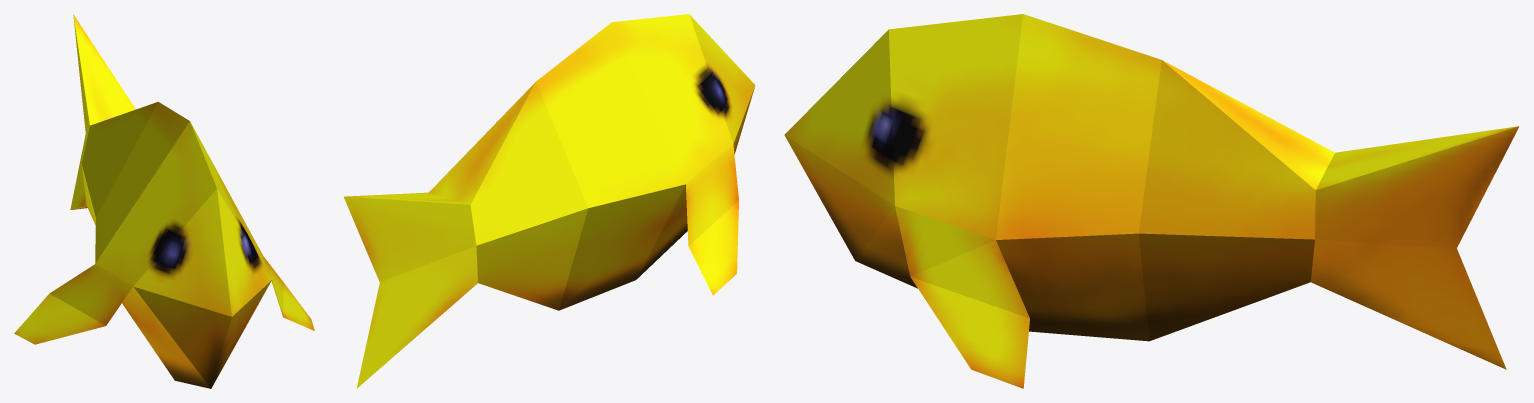
Rendered from fish2.FBX.
The picture shows the model from 3 angles, left to right: view 1: azimuth 30°, elevation 25°; view 2: azimuth 150°, elevation 25°; view 3: azimuth 270°, elevation 25°; orthographic projection. The views are drawn at different scales.
Visible parts, largest first — view 1: fish2; view 2: fish2; view 3: fish2.
Boxes of the visible parts, x1,y1,x2,y2 form: fish2: [14, 14, 314, 388]; fish2: [344, 14, 755, 388]; fish2: [784, 14, 1519, 388].
Size of the model in its own units: 22.11 by 20.42 by 41.42.
Materials: 1 (1 with a texture image).
